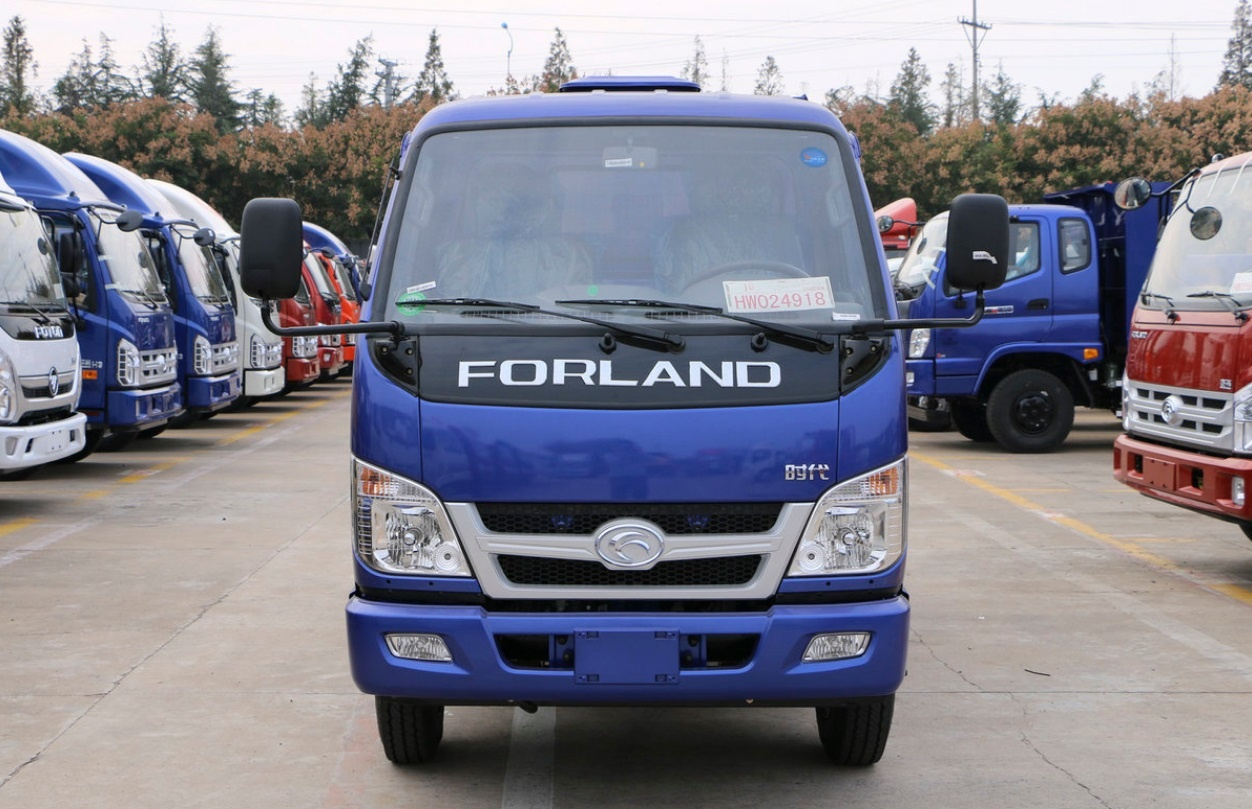truck: (275, 78, 968, 765)
